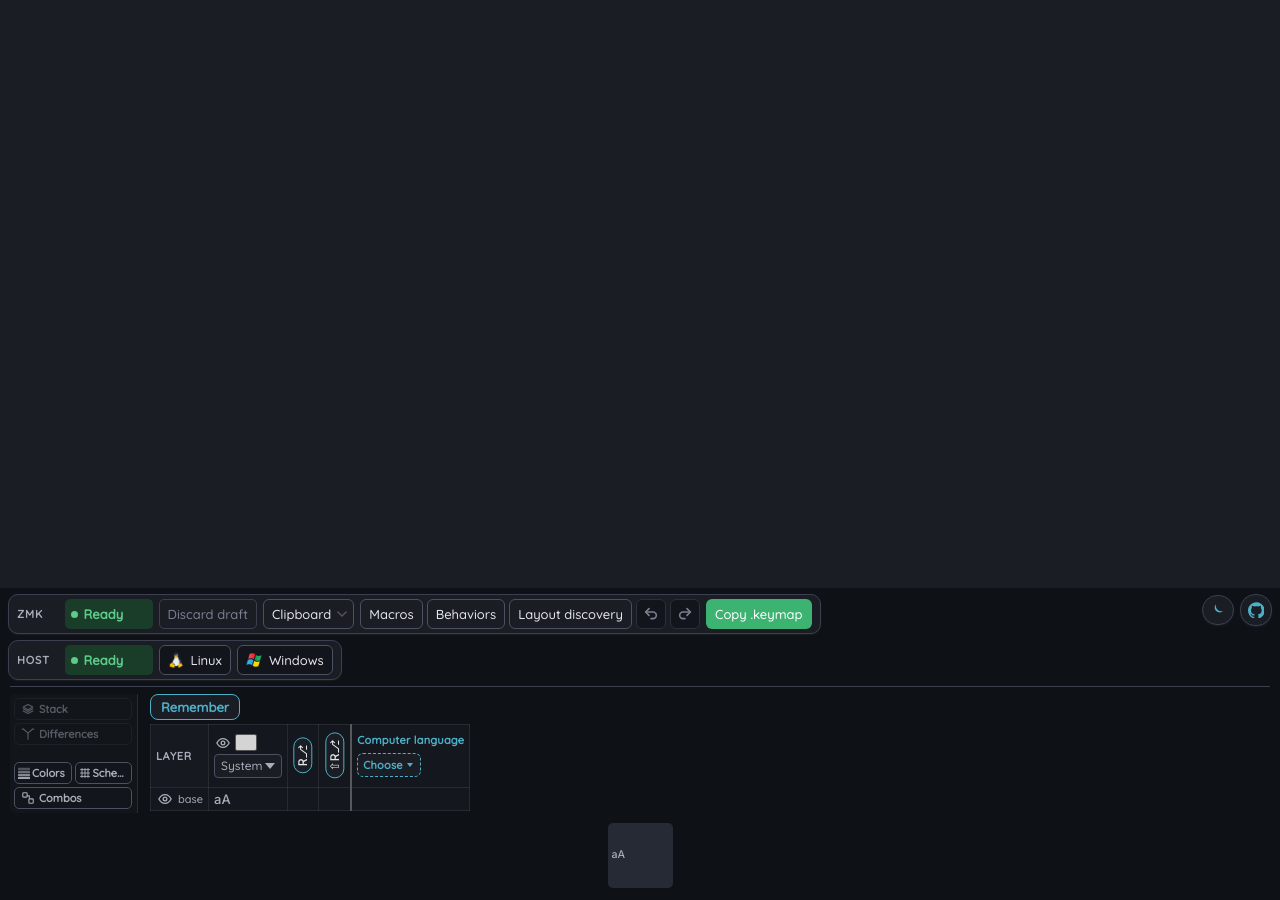
Test: creates a staged macro through the SPA as one undoable edit
Click the button "Macros": click(391, 614) [360, 599, 423, 629]
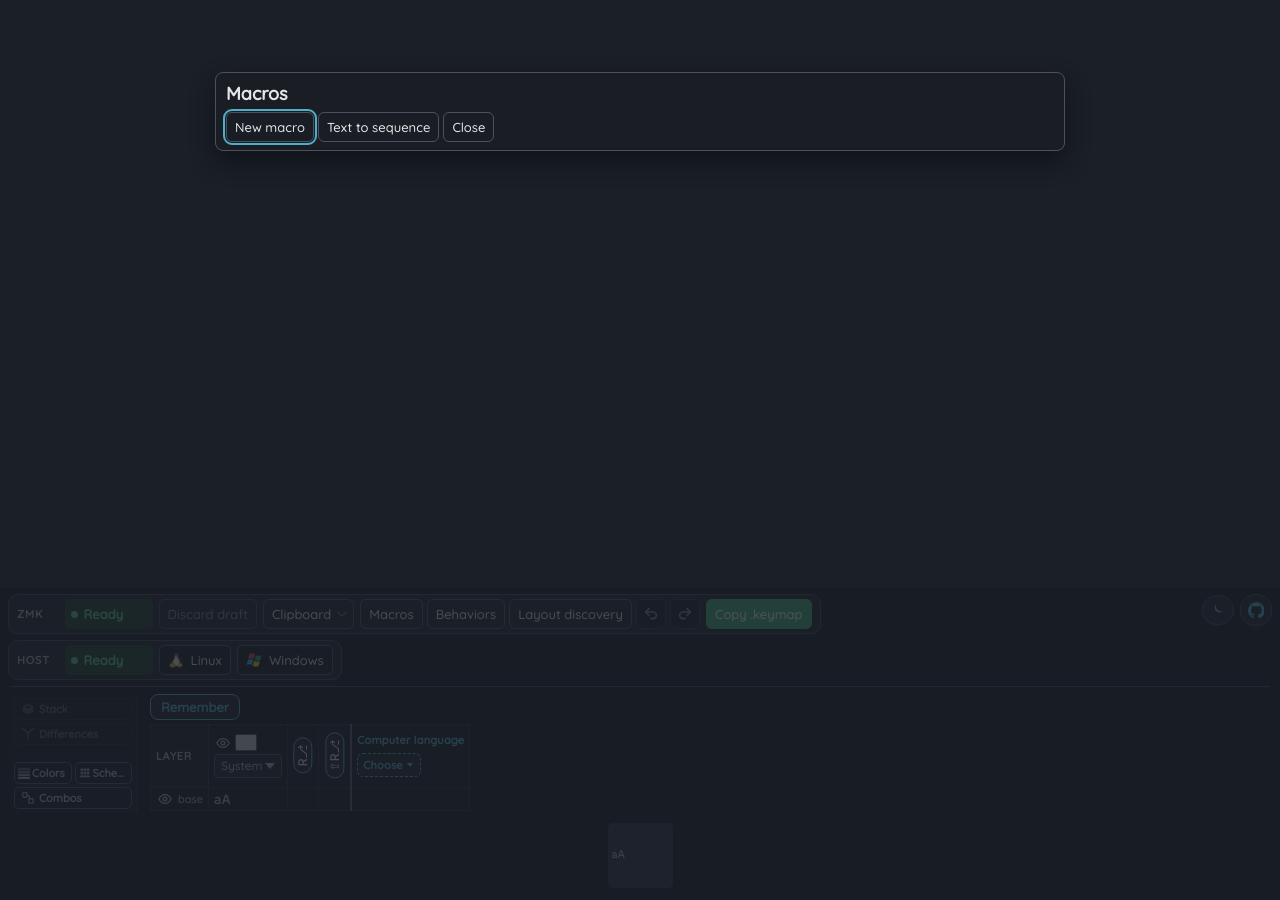
Result: the button "New macro" is shown
Click the button "New macro": click(270, 127) [226, 112, 314, 142]
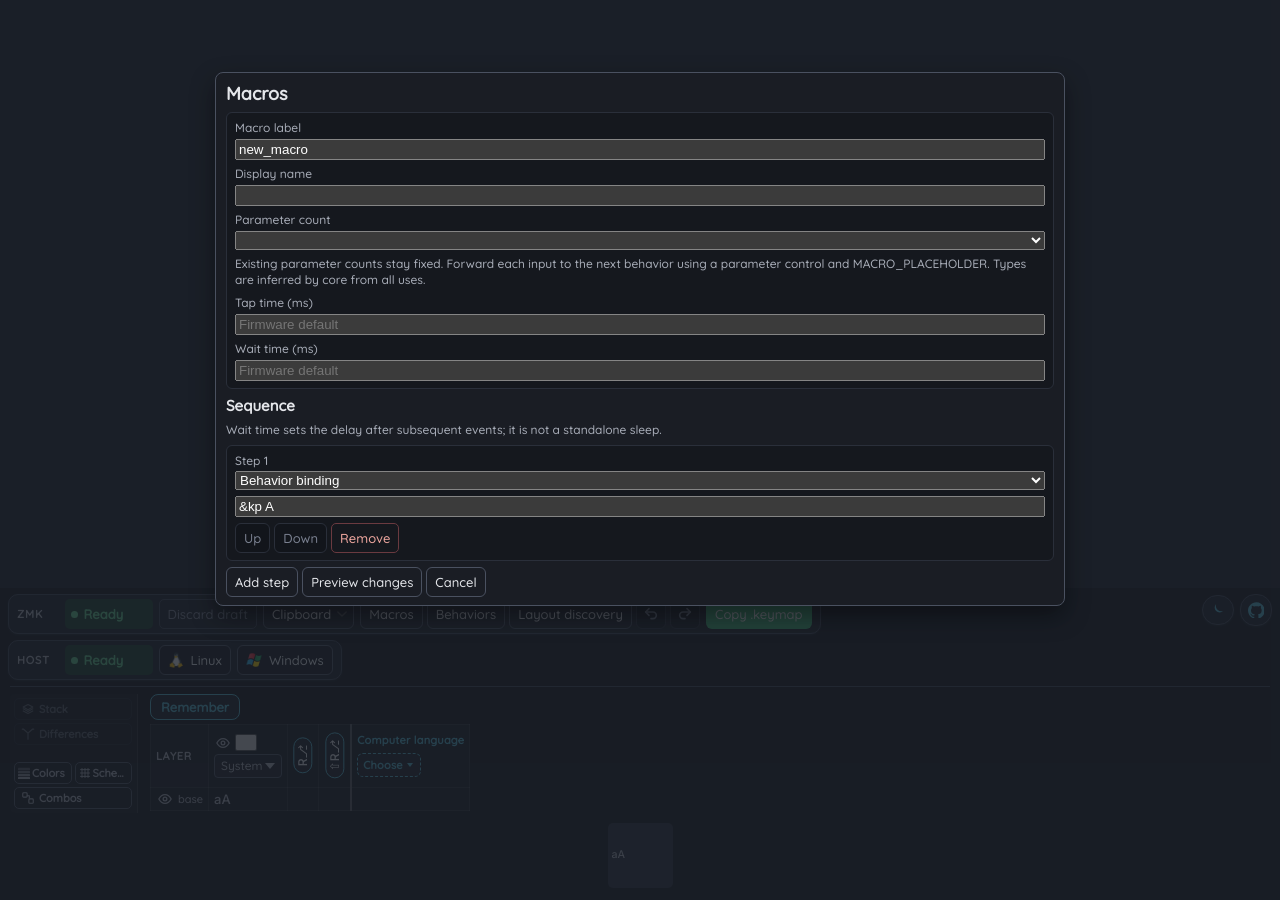
Result: the field named "Macro label" is shown
Replace the text in the field named "Macro label" with "greeting": (640, 150) [235, 139, 1045, 160]
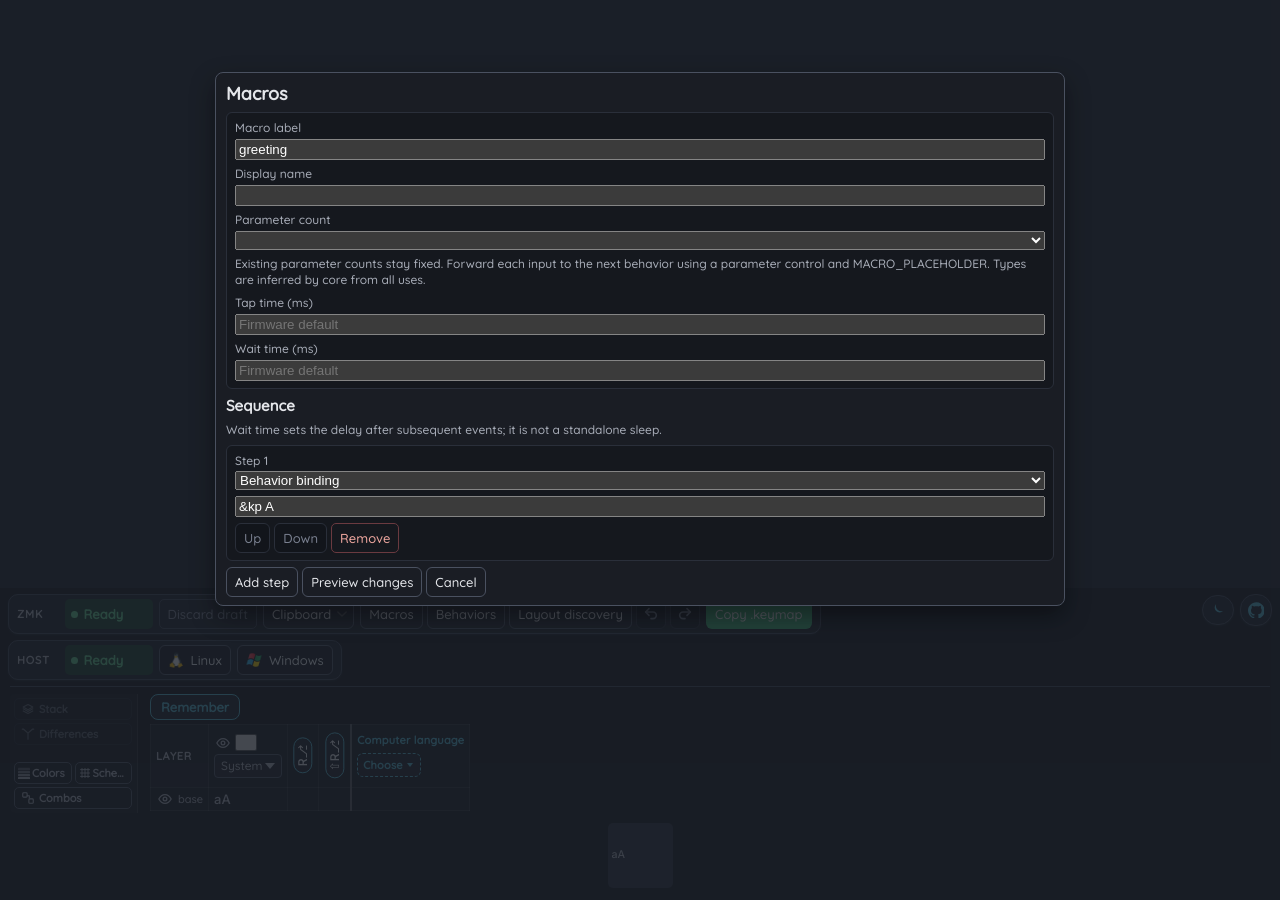
Result: the button "Preview changes" is shown
Click the button "Preview changes": click(362, 582) [302, 567, 422, 597]
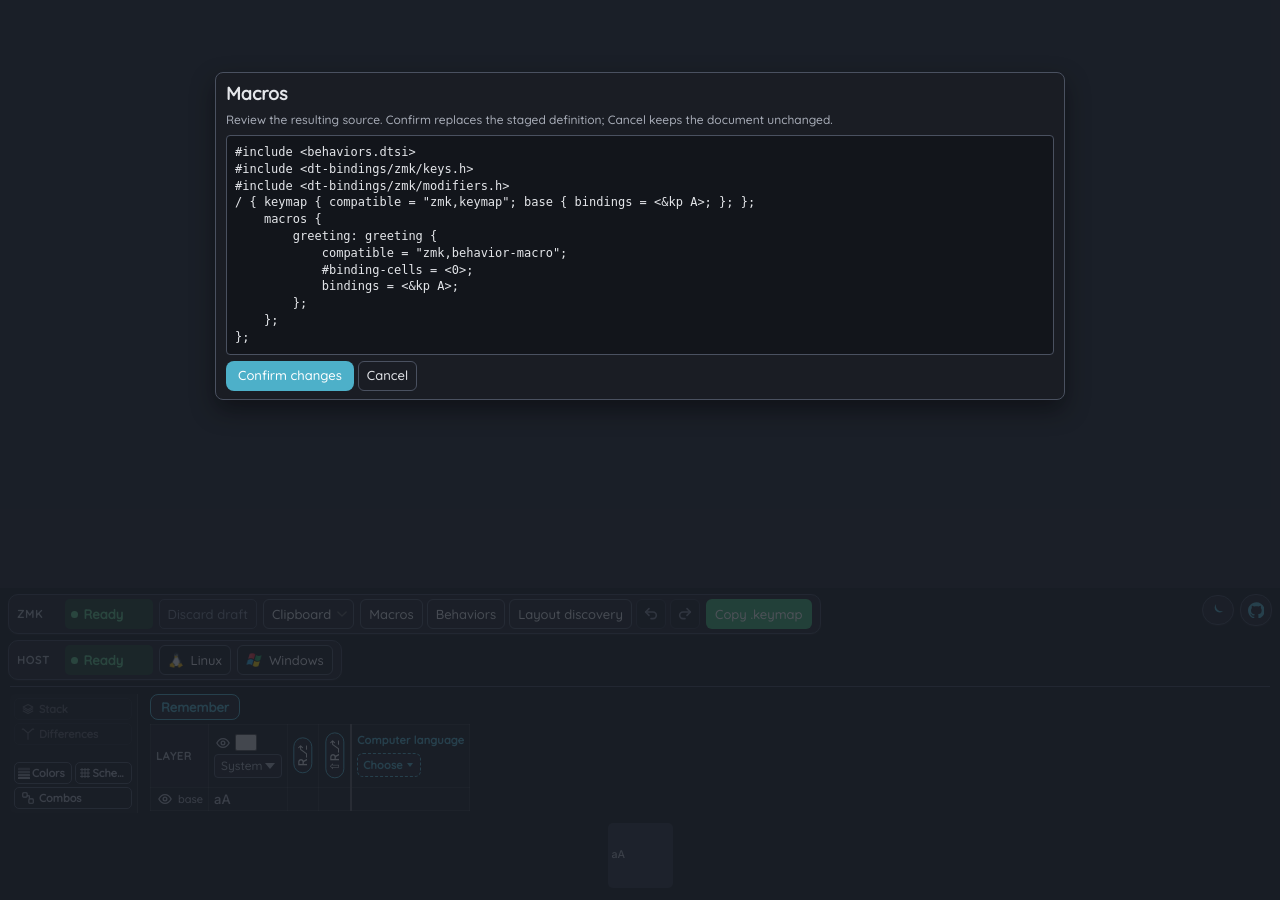
Result: the text named "Macro source preview" shows "greeting:" at [235, 145, 762, 344]
Result: the button "Confirm changes" is shown
Click the button "Confirm changes": click(290, 376) [226, 360, 354, 390]
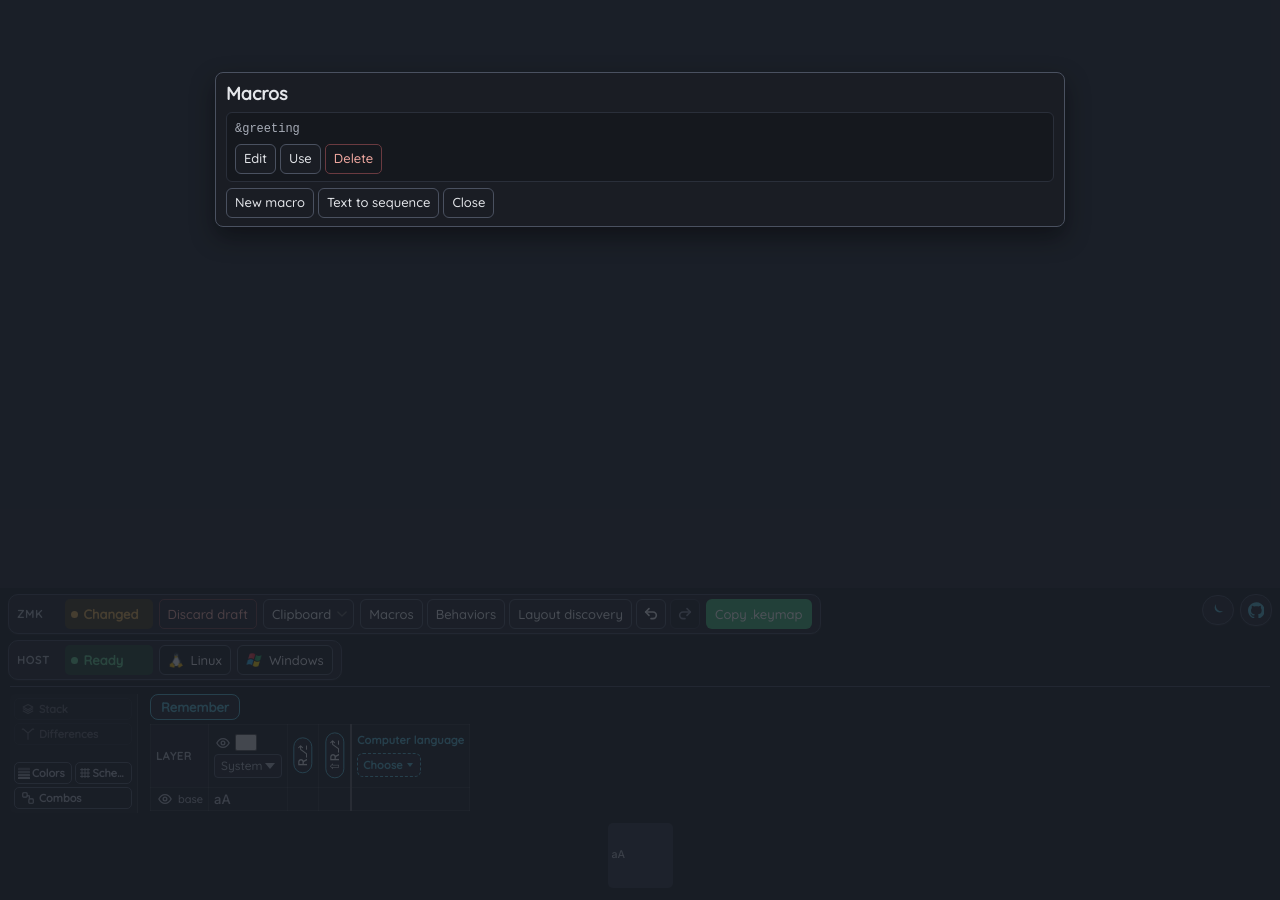
Result: the text "&greeting" is shown at [235, 122, 300, 136]
